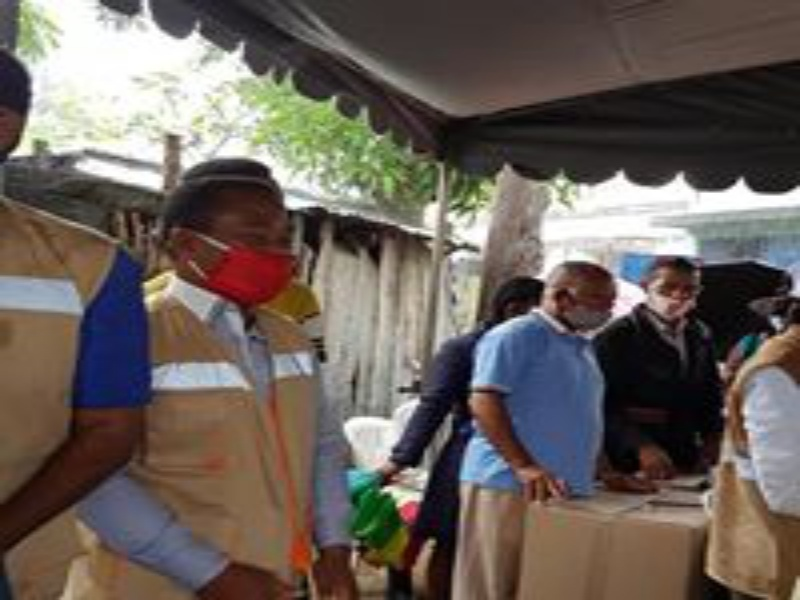ManaoArotava: (165, 173, 305, 309), (545, 255, 621, 342)
